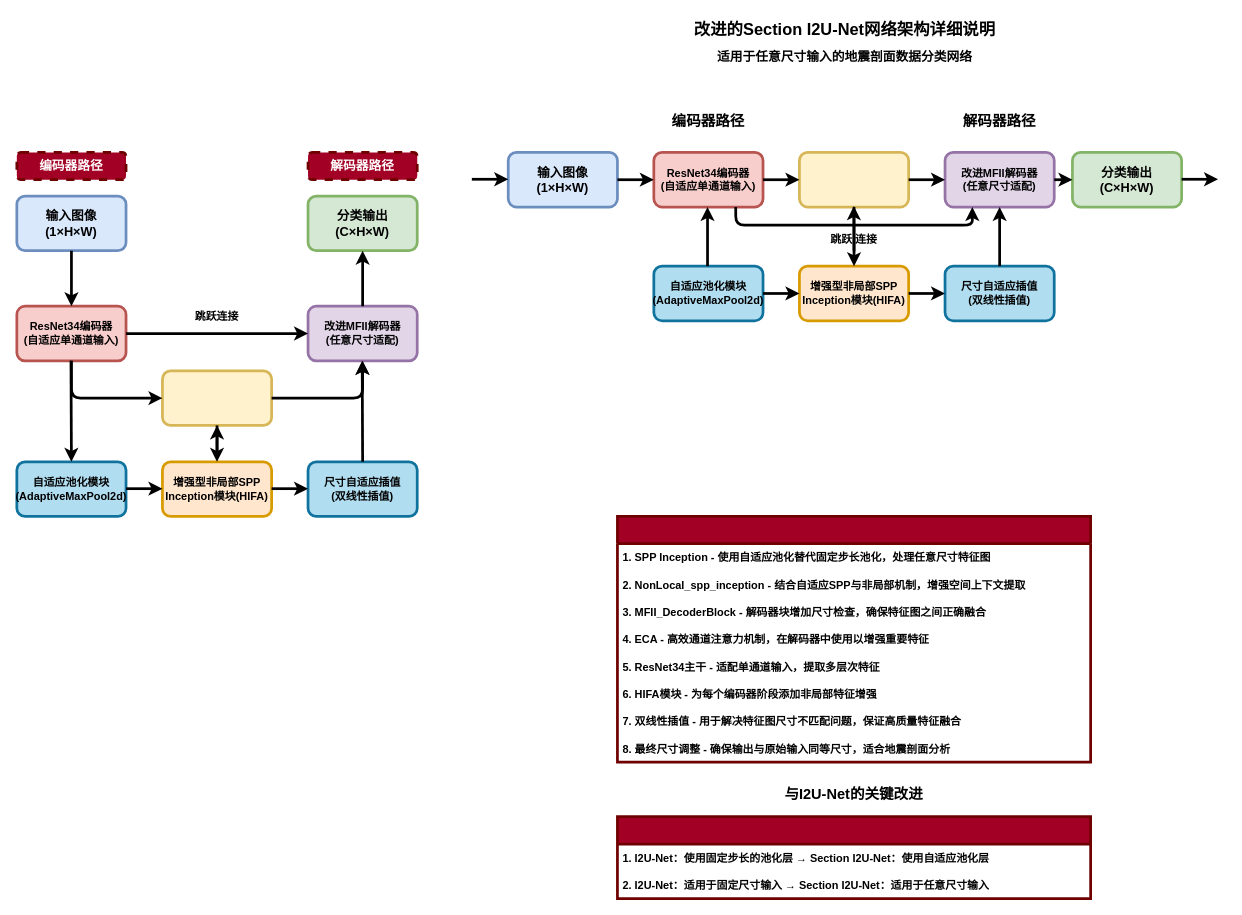
Some shapes in this 1242 by 915 pixel diagram are drawn without their labels. The box of each missing label's shape, as (x1, y1, x2, y2) in pixels:
区别对比: (616, 815, 1092, 900)
模块详情: (616, 515, 1092, 763)
特征提取模块 (多层特征提取): (798, 151, 910, 208)
特征提取模块 （多层特征提取）: (161, 369, 273, 426)
